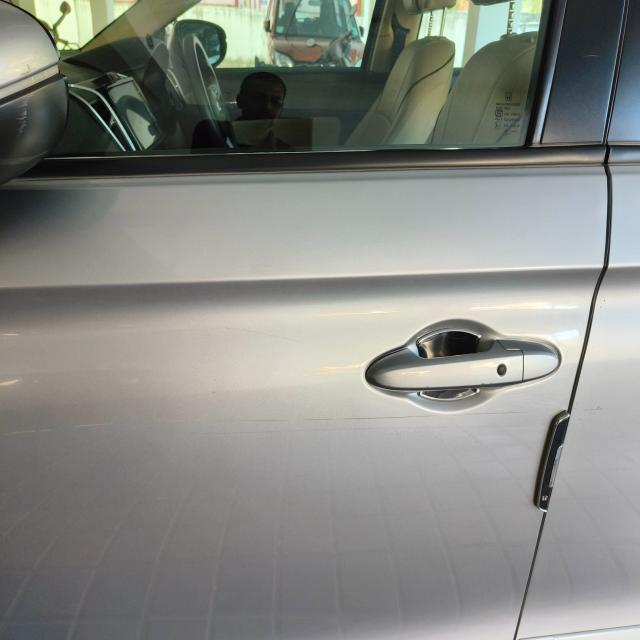scratch: (233, 407, 535, 425)
